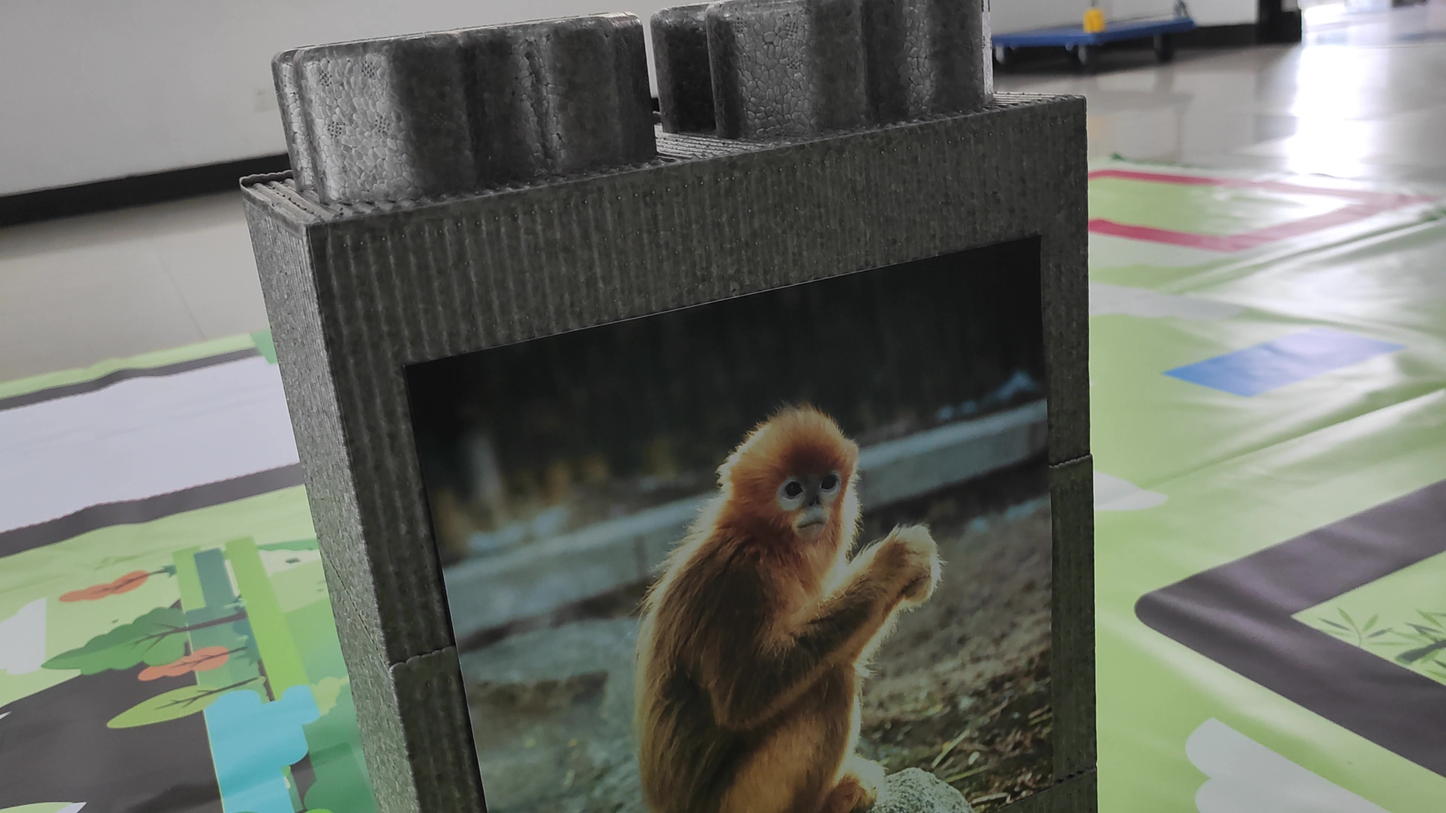monkey: (535, 389, 1014, 813)
